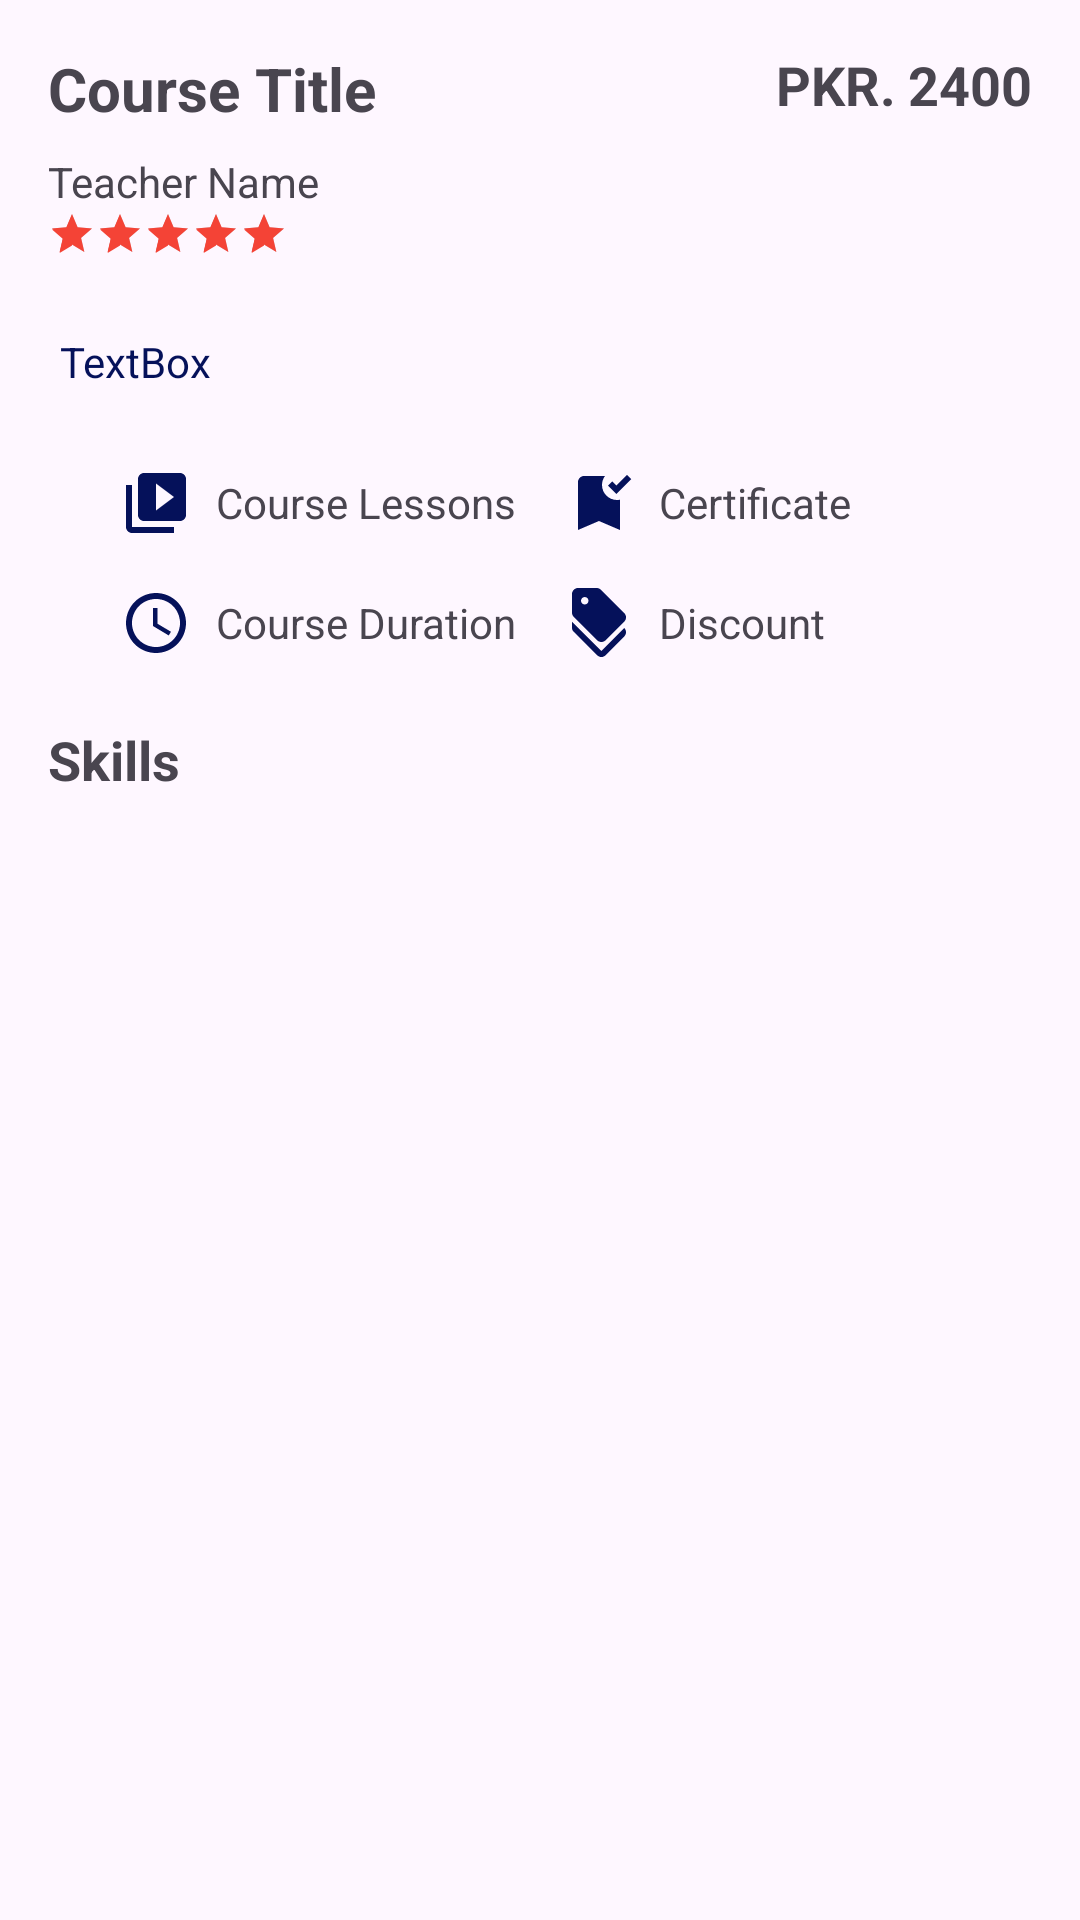

Where to tap for icons on this 1080px×1920px app screen, as [x,y]:
bookmark added: [604,502]
schedule: [156,623]
video library: [156,503]
